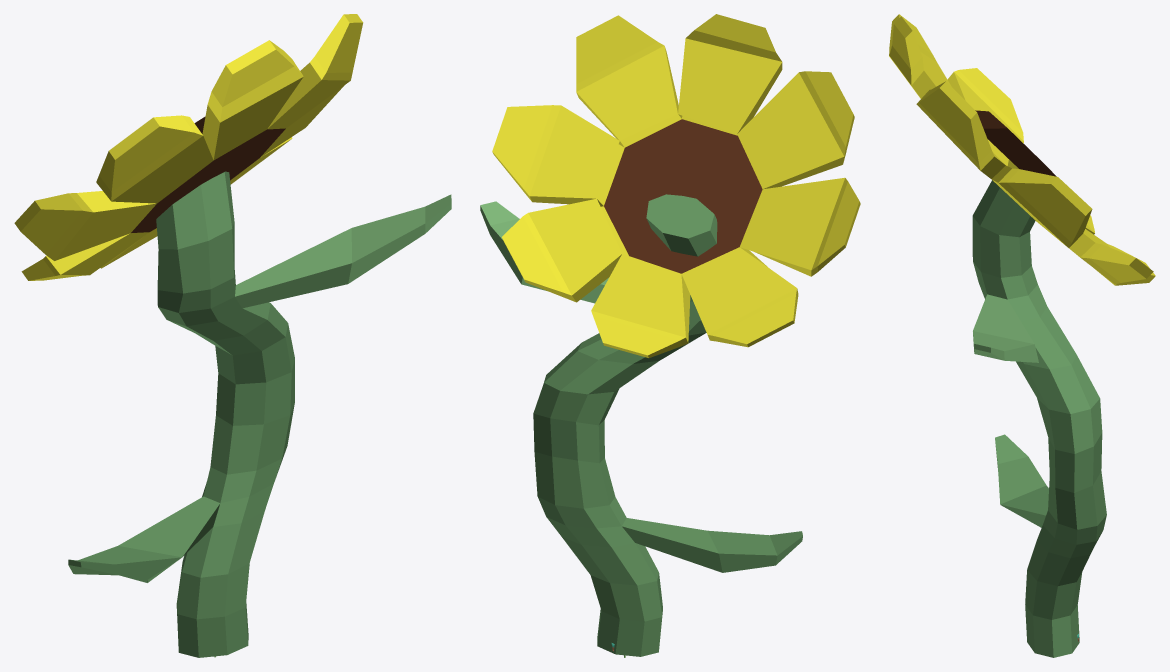
File: hexagonal_colmeia_epica.glb
The picture shows the model from 3 angles, left to right: view 1: azimuth 30°, elevation 25°; view 2: azimuth 150°, elevation 25°; view 3: azimuth 270°, elevation 25°; orthographic projection. The views are drawn at different scales.
Visible parts, largest first — view 1: Circle.001; view 2: Circle.001; view 3: Circle.001.
Part boxes in pixels (bbox=[...]): Circle.001: bbox=[14, 14, 451, 657]; Circle.001: bbox=[480, 14, 860, 656]; Circle.001: bbox=[889, 14, 1155, 657].
Size of the model in its own units: 10.9 by 16.66 by 6.55.
Materials: 27 (2 with a texture image).
